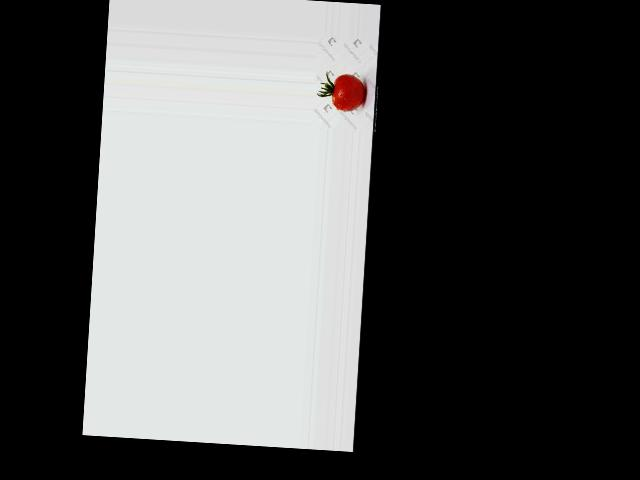tomato: (332, 73, 366, 111)
